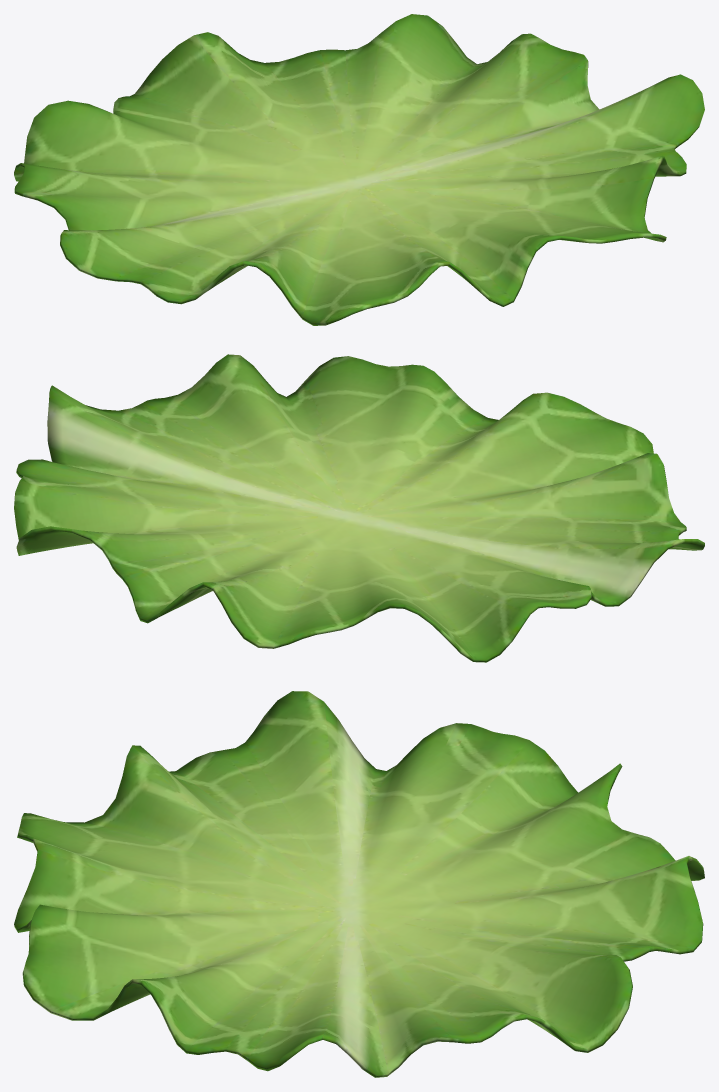
The model's file is veg_lettuce.glb.
The picture shows the model from 3 angles, top to bottom: view 1: azimuth 30°, elevation 25°; view 2: azimuth 150°, elevation 25°; view 3: azimuth 270°, elevation 25°; orthographic projection. The views are drawn at different scales.
Visible parts, largest first — view 1: EX_Veg_lettuce_piece01; view 2: EX_Veg_lettuce_piece01; view 3: EX_Veg_lettuce_piece01.
Part boxes in pixels (x1,y1,x2,y2): EX_Veg_lettuce_piece01: [14, 14, 704, 325]; EX_Veg_lettuce_piece01: [14, 354, 704, 662]; EX_Veg_lettuce_piece01: [14, 691, 704, 1077].
Size of the model in its own units: 0.1301 by 0.0114 by 0.1069.
1 material, 1 textured.
